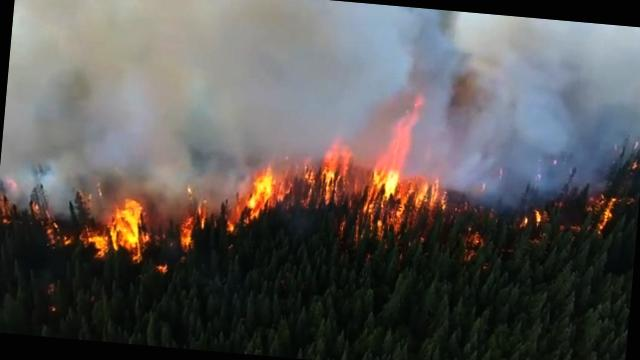fire: (301, 158, 446, 244), (172, 163, 284, 259), (85, 195, 152, 262), (587, 192, 623, 240)
smoke: (0, 0, 640, 216)
